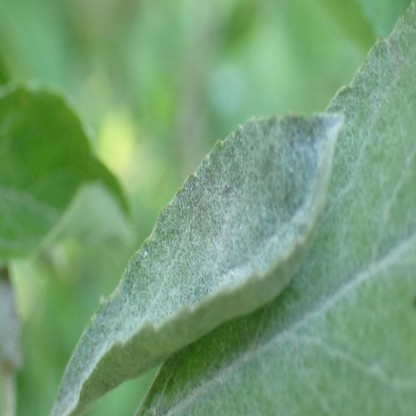powder: (137, 1, 416, 414), (51, 116, 344, 416)
